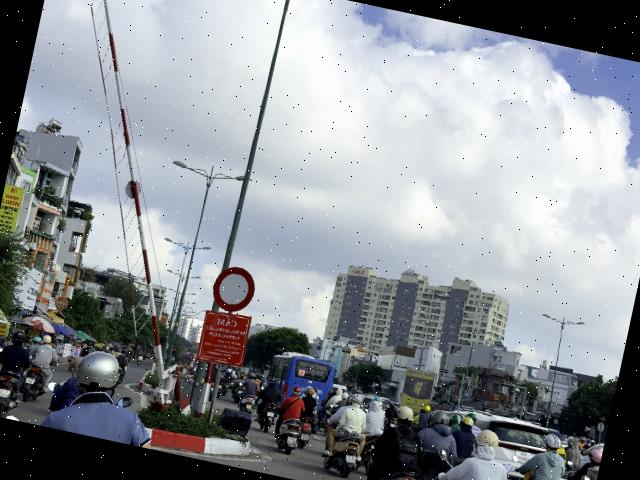duong-cam: (208, 264, 258, 316)
